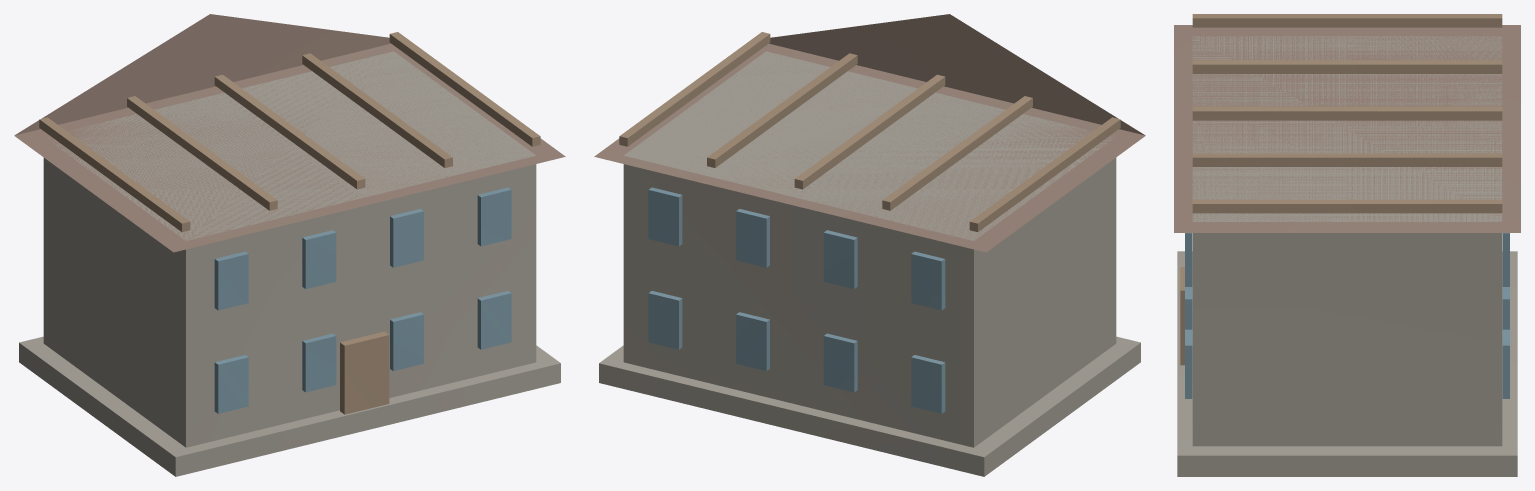
File: greenhouse-07.glb
The picture shows the model from 3 angles, left to right: view 1: azimuth 30°, elevation 25°; view 2: azimuth 150°, elevation 25°; view 3: azimuth 270°, elevation 25°; orthographic projection. The views are drawn at different scales.
Parts seen in each view (by area): view 1: world; view 2: world; view 3: world.
Boxes of the visible parts, x1,y1,x2,y2 form: world: (14,14,565,476); world: (594,14,1145,476); world: (1174,14,1520,476).
Bounding box in the file's own units: 1.67 × 1.22 × 1.18.
